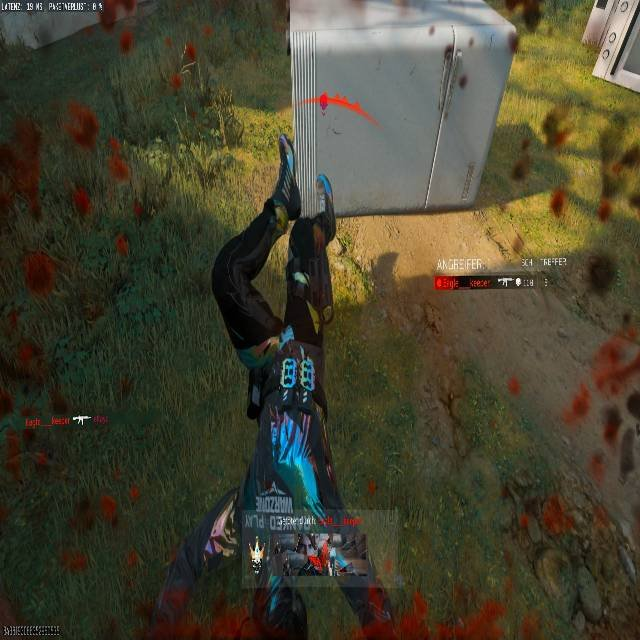player: (245, 327, 336, 481)
